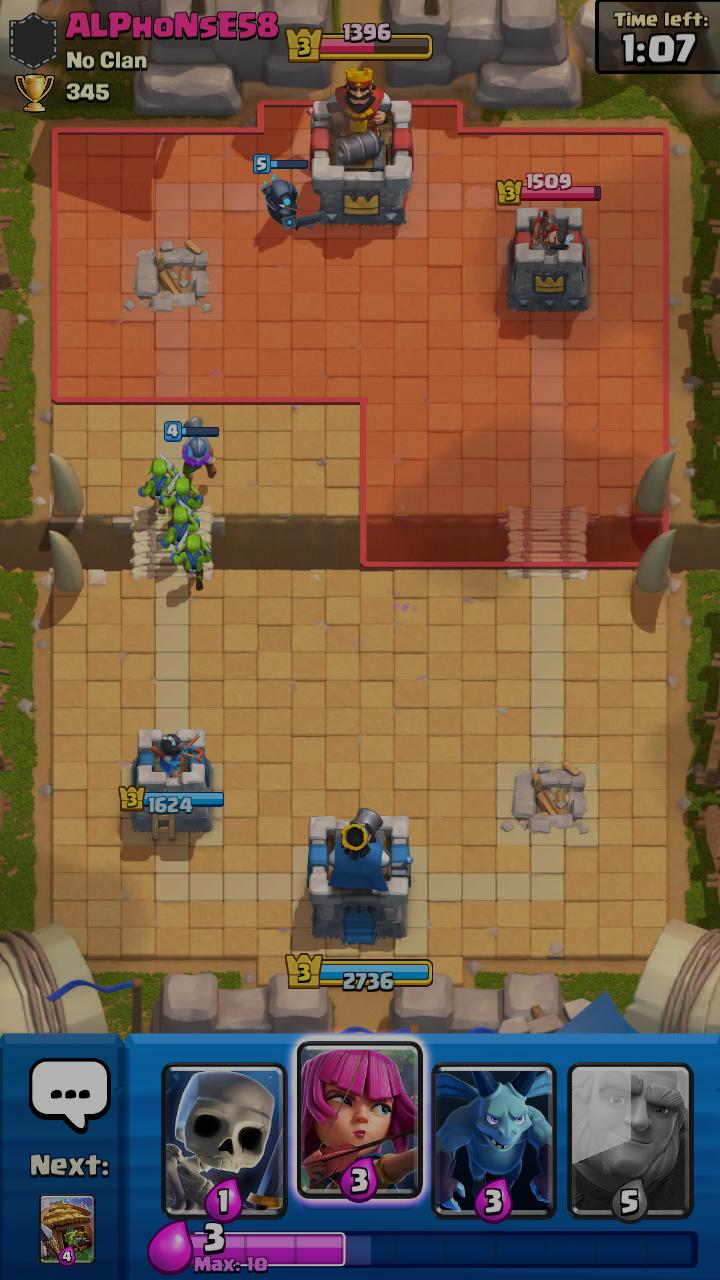ally: (253, 153, 326, 231), (164, 415, 218, 481), (161, 500, 201, 564), (171, 530, 212, 591), (138, 453, 179, 514), (161, 474, 204, 525)
